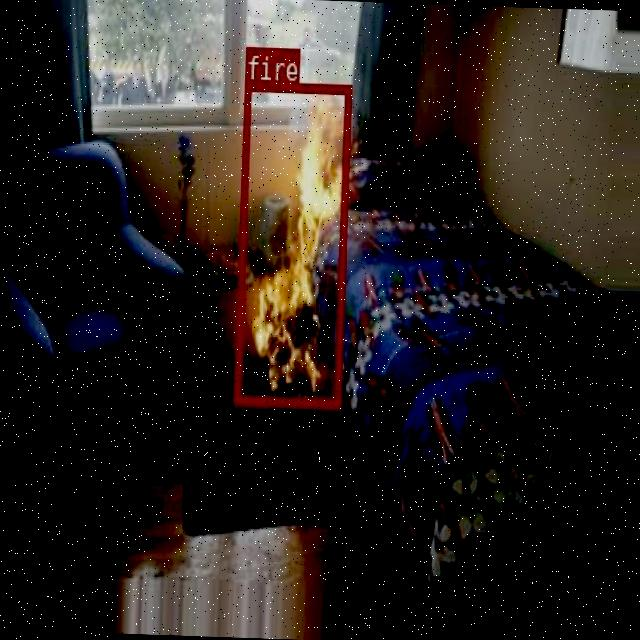fire: (232, 79, 349, 406)
